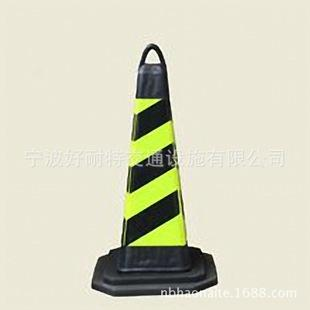cone_barrel: (97, 47, 208, 291)
